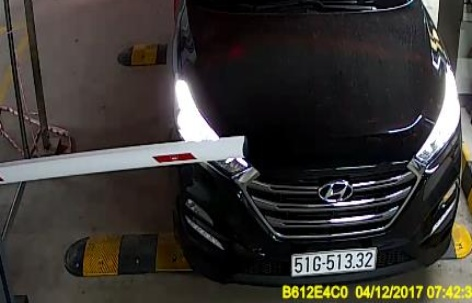plate: (287, 244, 377, 278)
